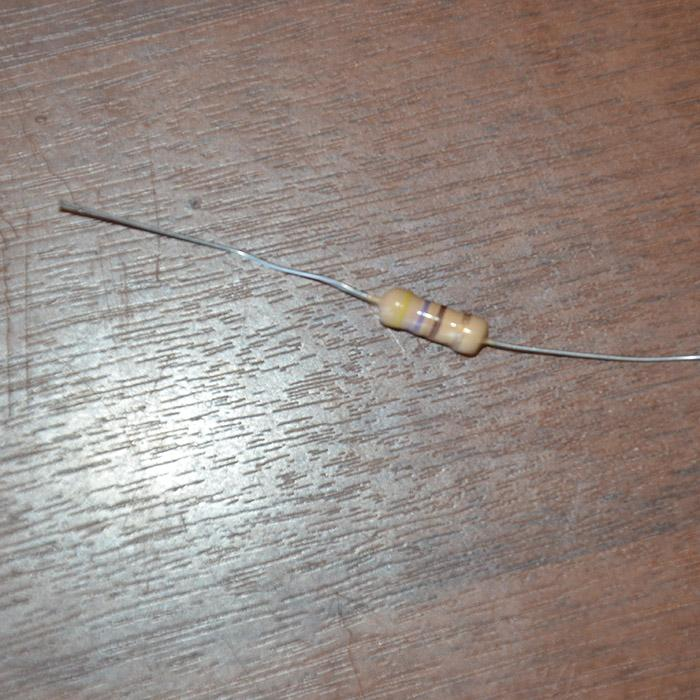resistor: (373, 286, 489, 356)
